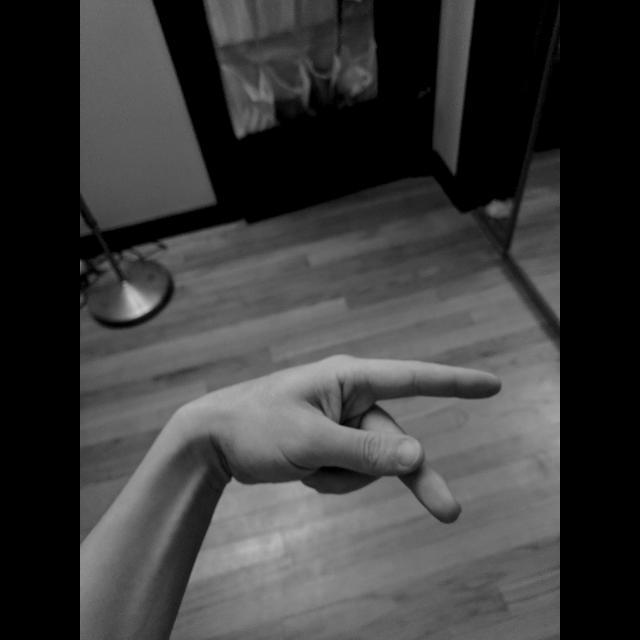P: (228, 348, 504, 528)
